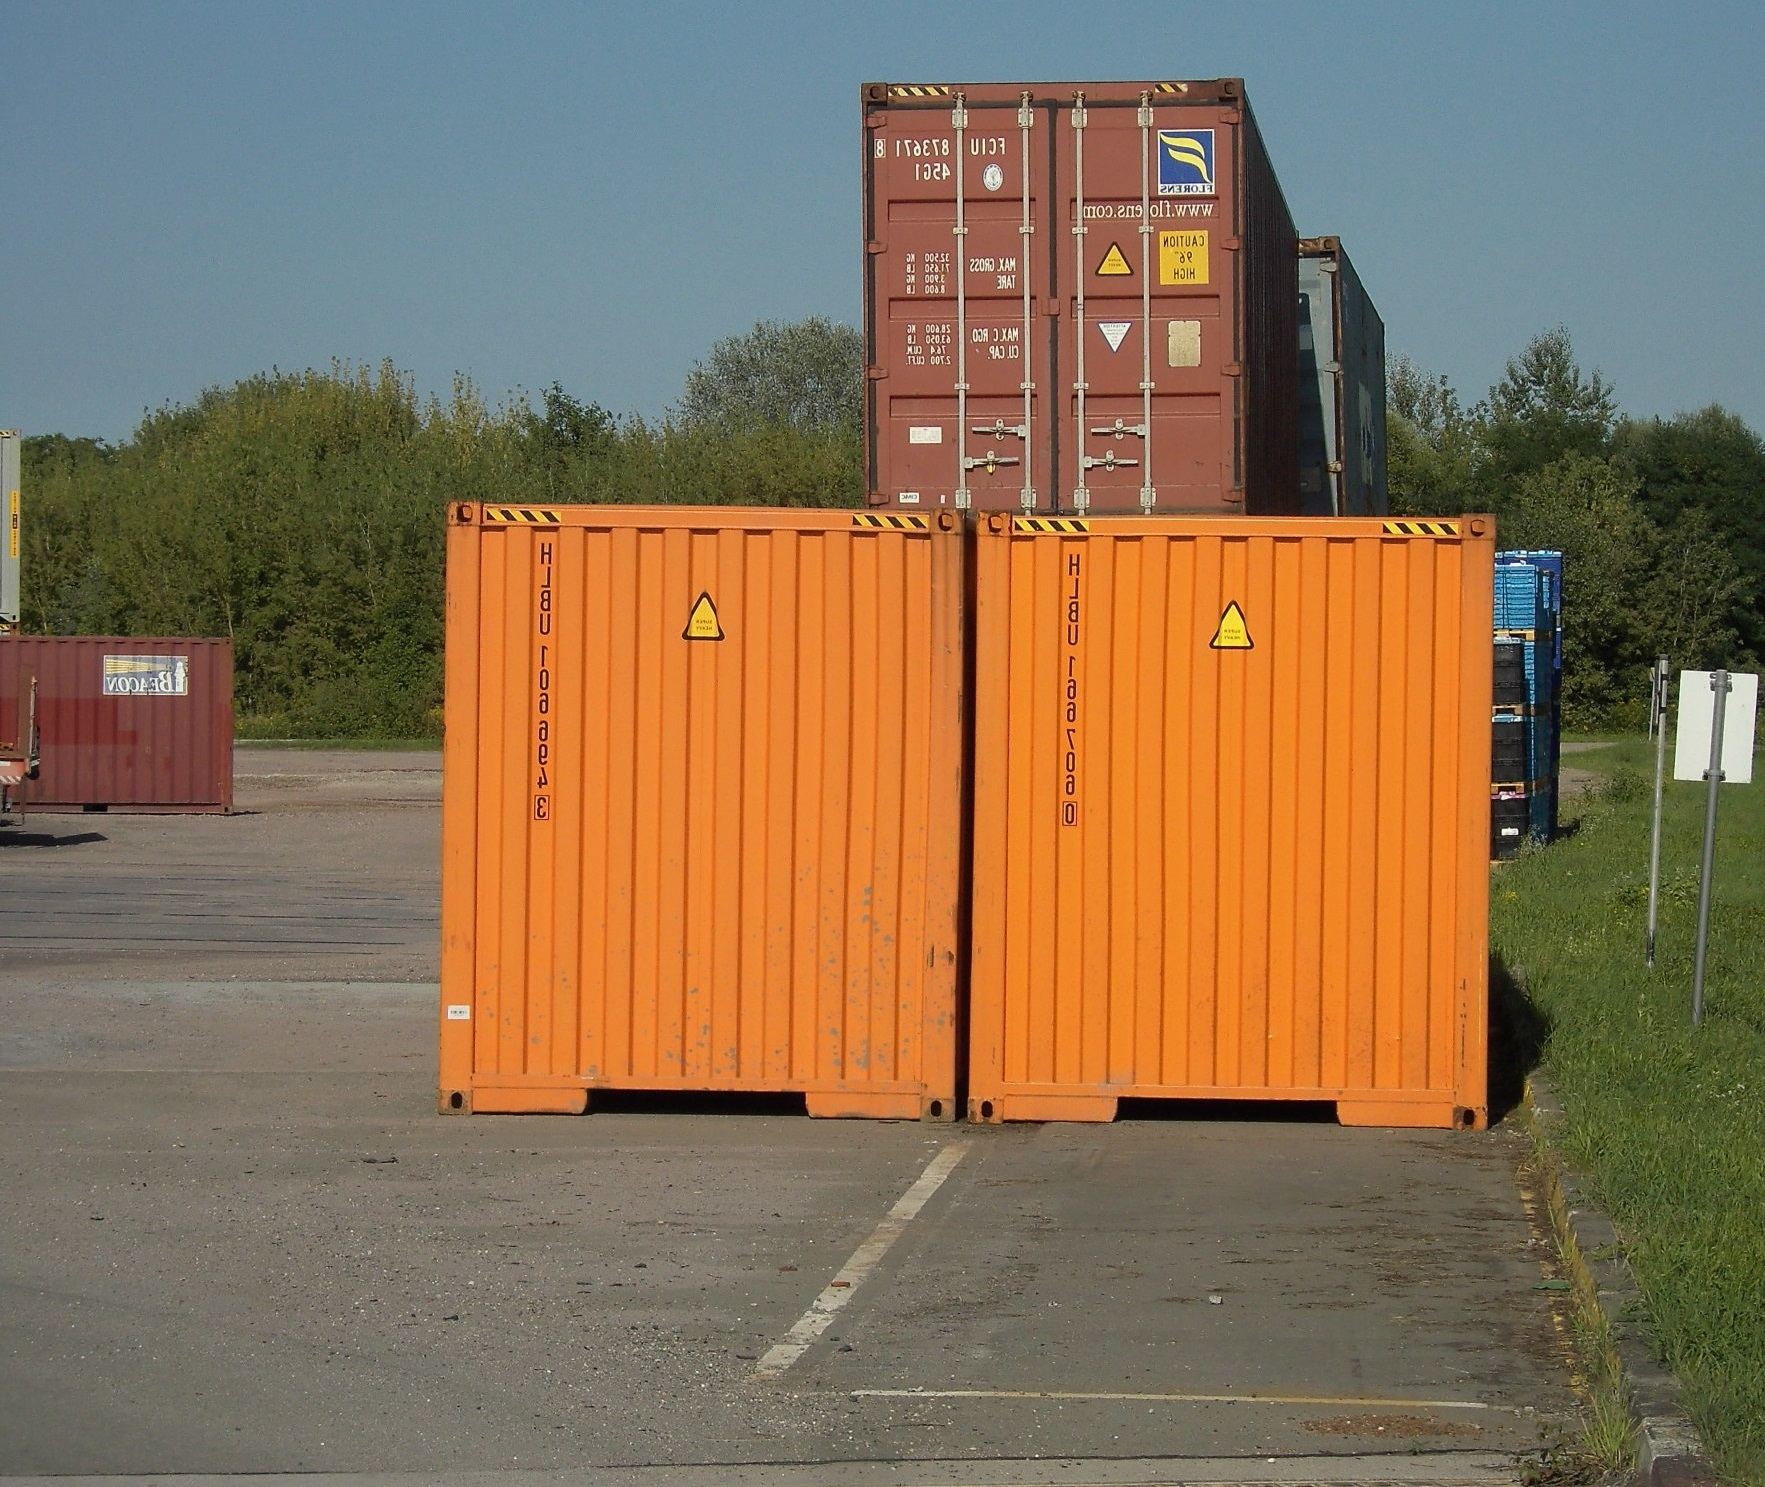container_door: (867, 81, 1239, 497)
container_no_door: (431, 499, 961, 1130), (967, 507, 1498, 1137)
